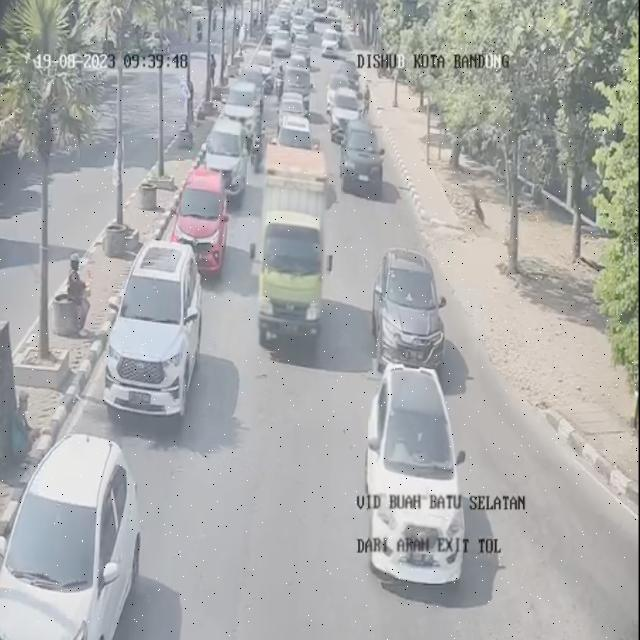cars: (2, 437, 146, 640), (368, 360, 463, 578), (110, 241, 204, 424), (372, 241, 438, 369), (175, 168, 226, 270), (342, 114, 382, 194), (208, 117, 247, 196), (231, 79, 260, 135), (333, 86, 361, 140), (276, 116, 312, 155), (286, 58, 313, 105), (277, 92, 305, 128), (331, 70, 348, 114), (321, 29, 340, 55), (272, 33, 289, 61), (292, 52, 310, 74)
truck: (251, 148, 329, 351)
